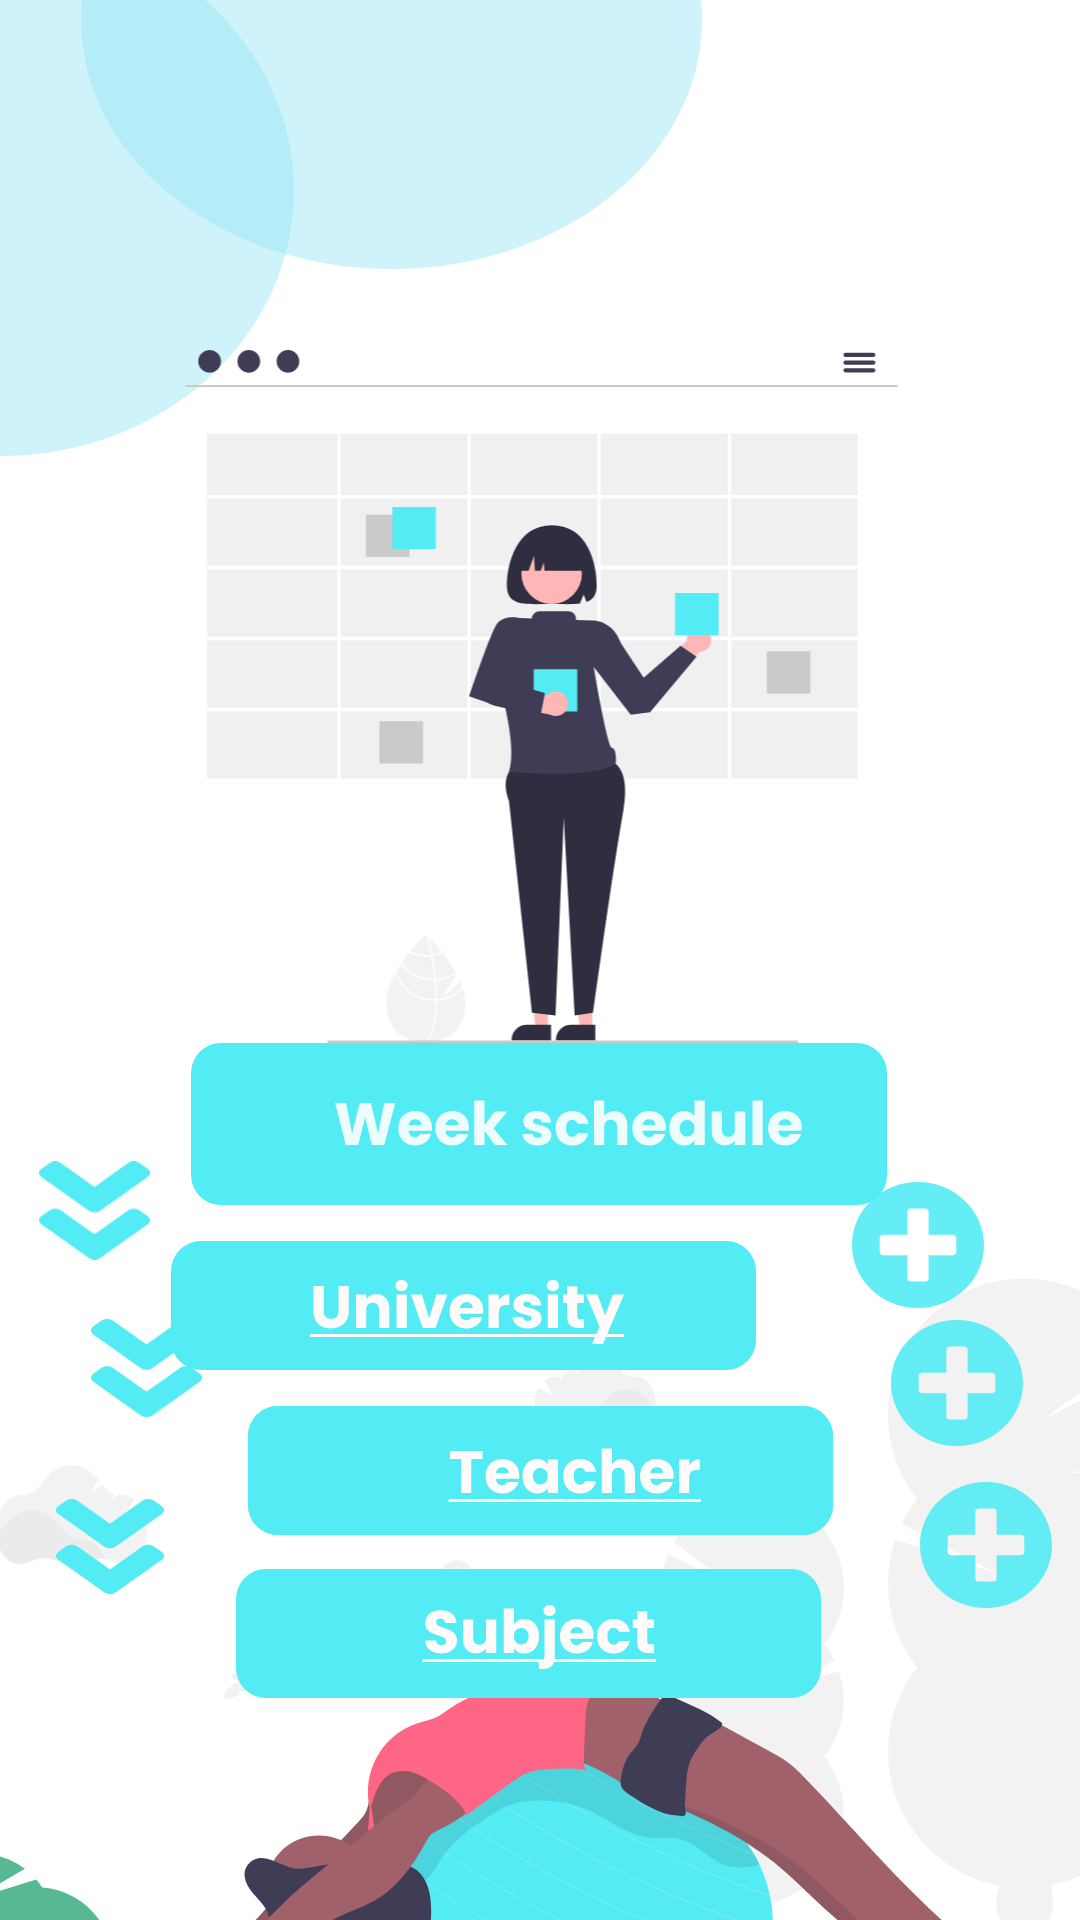

Screen size 1080 × 1920. Icon name, then its box in pixels as (x1, y1, x2, y2):
add botton: (852, 1182, 984, 1308), (891, 1320, 1023, 1446), (920, 1482, 1052, 1608)
scroll down: (39, 1161, 150, 1260), (91, 1311, 202, 1417), (56, 1499, 164, 1594)
